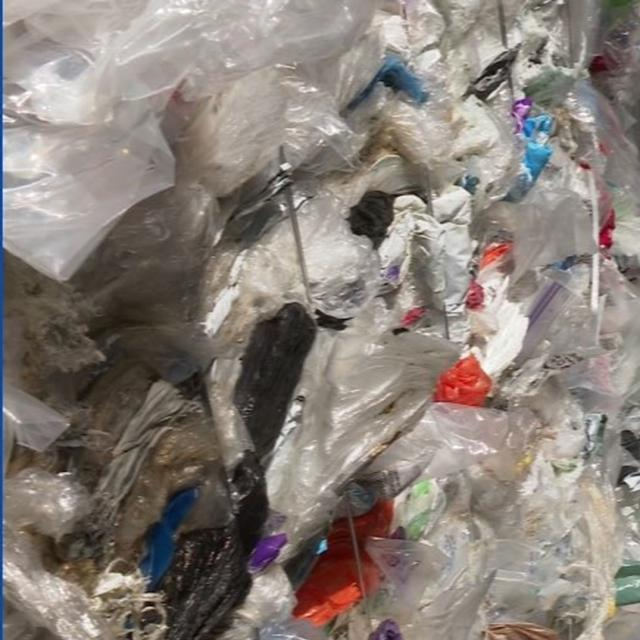Single-layer Plastic: (4, 0, 374, 280), (331, 390, 620, 640), (5, 184, 221, 410), (266, 331, 459, 562), (180, 25, 385, 191), (4, 468, 114, 640)
